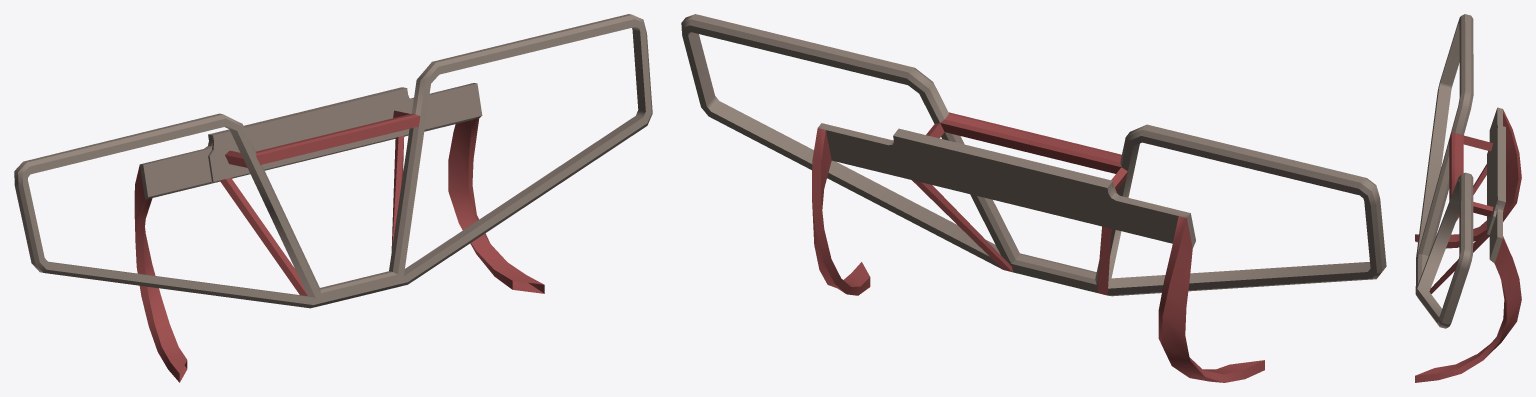
File: rails.fbx
3 views of the same model, side by side, from view 1: azimuth 30°, elevation 25°; view 2: azimuth 150°, elevation 25°; view 3: azimuth 270°, elevation 25° (orthographic). The views are drawn at different scales.
Visible parts, largest first — view 1: Rails; view 2: Rails; view 3: Rails.
Part boxes in pixels (bbox=[...]): Rails: bbox=[14, 14, 652, 382]; Rails: bbox=[681, 14, 1386, 382]; Rails: bbox=[1415, 14, 1521, 382].
Size of the model in its own units: 3.98 by 1.37 by 0.7365.
